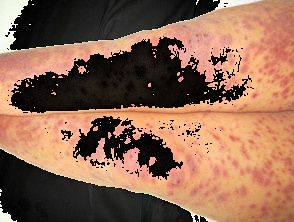SJS-TEN: (0, 1, 294, 159), (3, 111, 294, 222)
